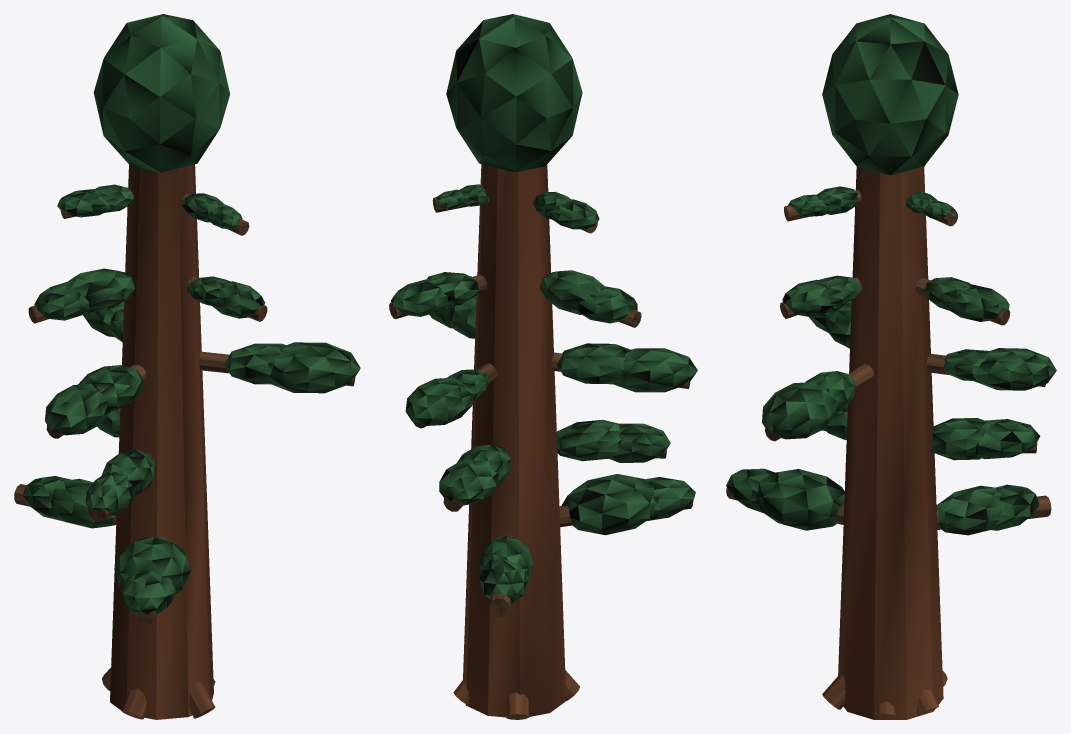
Rendered from small-lod1.glb.
3 views of the same model, side by side, from view 1: azimuth 30°, elevation 25°; view 2: azimuth 150°, elevation 25°; view 3: azimuth 270°, elevation 25° (orthographic).
Parts seen in each view (by area): view 1: pine-trunk-branches-needles; view 2: pine-trunk-branches-needles; view 3: pine-trunk-branches-needles.
Part boxes in pixels (x1,y1,x2,y2): pine-trunk-branches-needles: (14, 14, 360, 719); pine-trunk-branches-needles: (389, 14, 697, 719); pine-trunk-branches-needles: (726, 14, 1056, 719).
Size of the model in its own units: 5.89 by 13.33 by 5.84.
